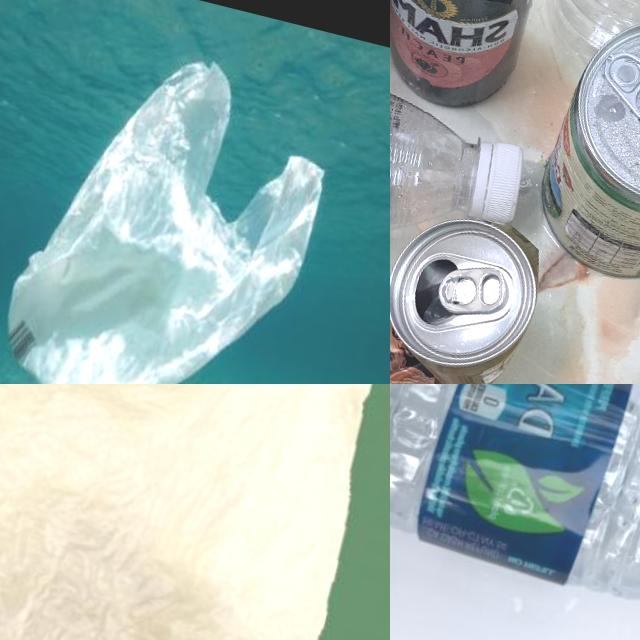aba de lata: (431, 253, 513, 326), (590, 45, 640, 129)
garrafa de vidro: (390, 0, 574, 121)
garrafa plástica: (390, 384, 640, 640), (390, 82, 486, 268)
lata: (521, 0, 640, 304), (390, 190, 552, 384)
sacola plástica: (0, 23, 353, 384), (0, 384, 390, 640)
tampa plástica: (472, 137, 534, 231)
